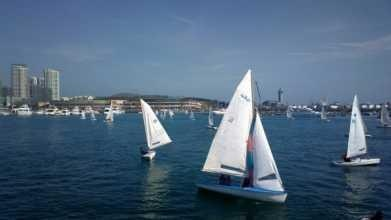fanchuan: (188, 70, 305, 205), (131, 86, 176, 164), (335, 94, 379, 169)
